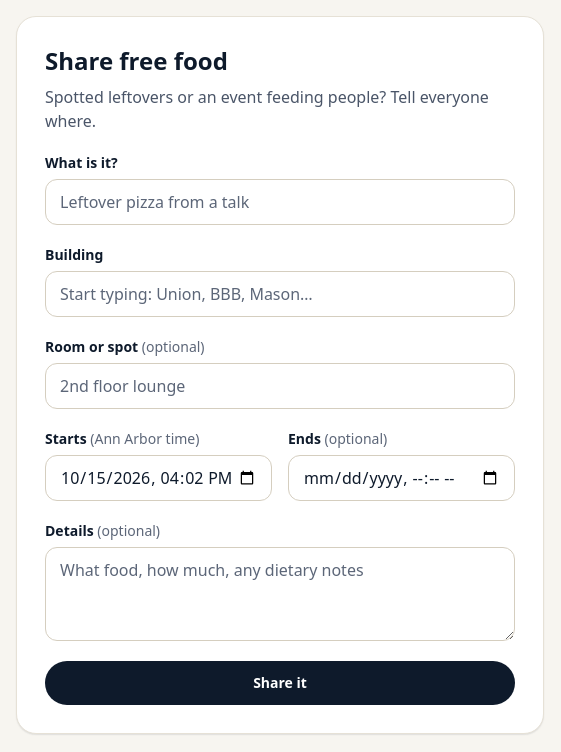
SubmitPage › sends a tip with the picked building and tells a new user it will be reviewed
Type "Leftover pizza" into the field labelled "What is it?".
click(280, 202); type("Leftover pizza")  # box [45,179,515,225]
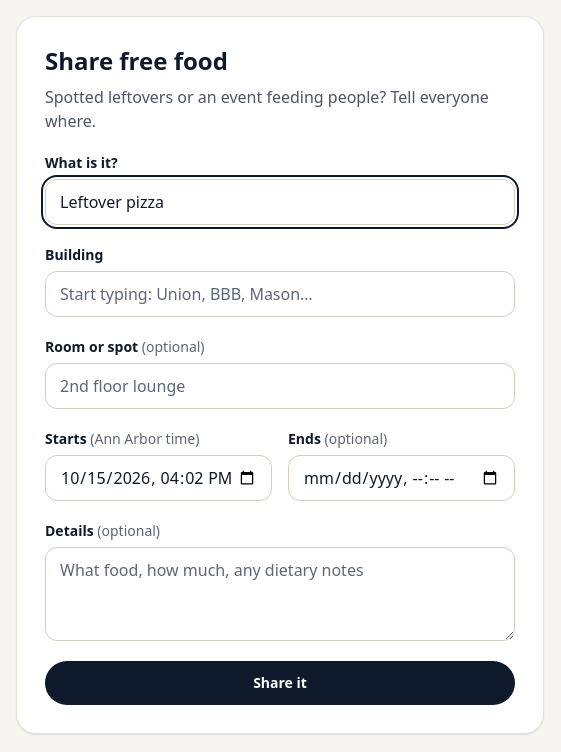
Type "dude" into the dropdown labelled "Building".
click(280, 294); type("dude")  # box [45,271,515,317]
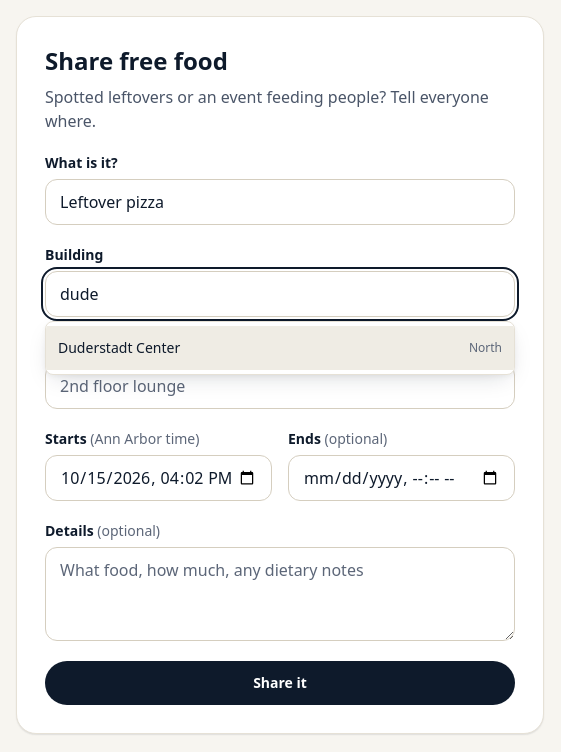
Click the option "Duderstadt Center North".
click(119, 348)  # box [46,326,514,370]
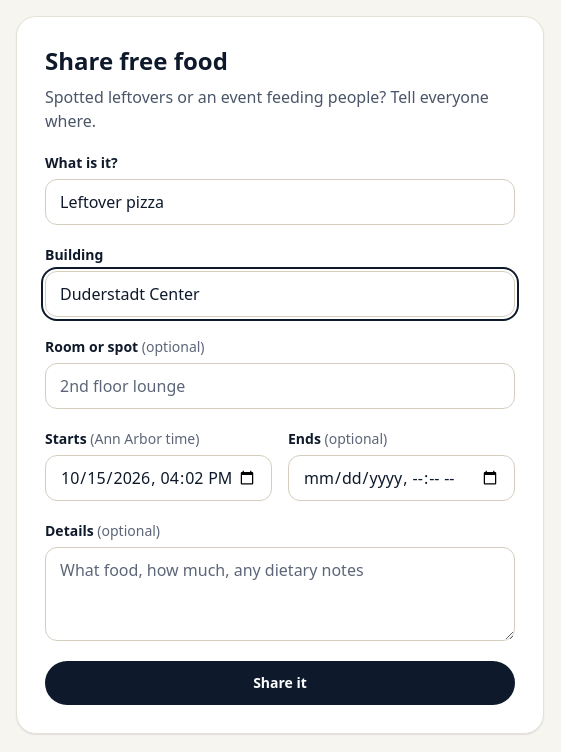
Type "Atrium" into the field labelled "Room or spot (optional)".
click(280, 386); type("Atrium")  # box [45,363,515,409]
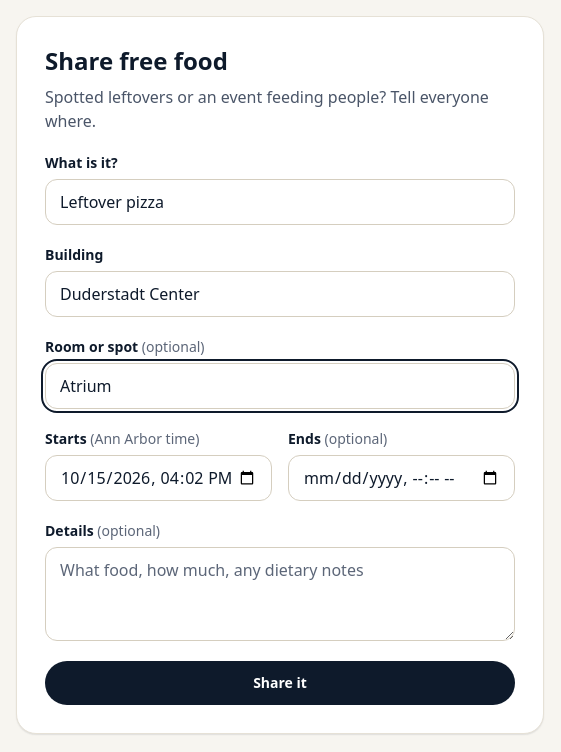
Click the button "Share it".
click(280, 683)  # box [45,661,515,705]
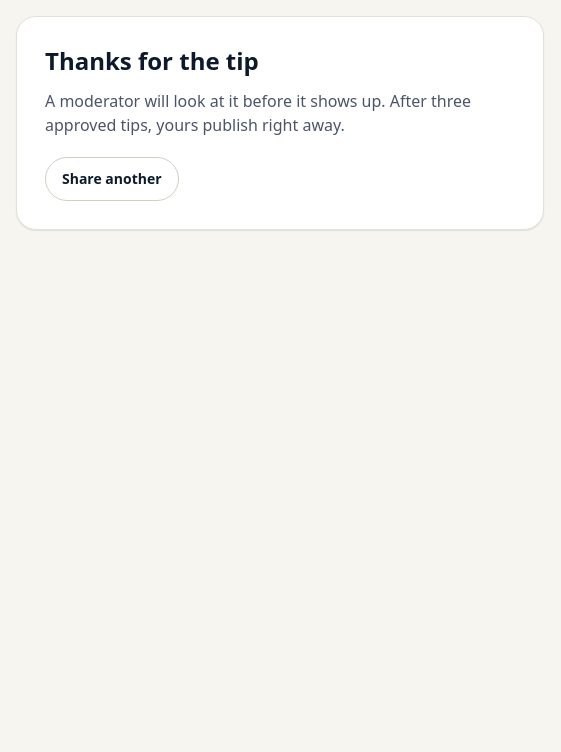
Result: the heading "Thanks for the tip" is shown at [45,44,259,77]
Result: the text "A moderator will look at it" is shown at [45,90,471,136]
